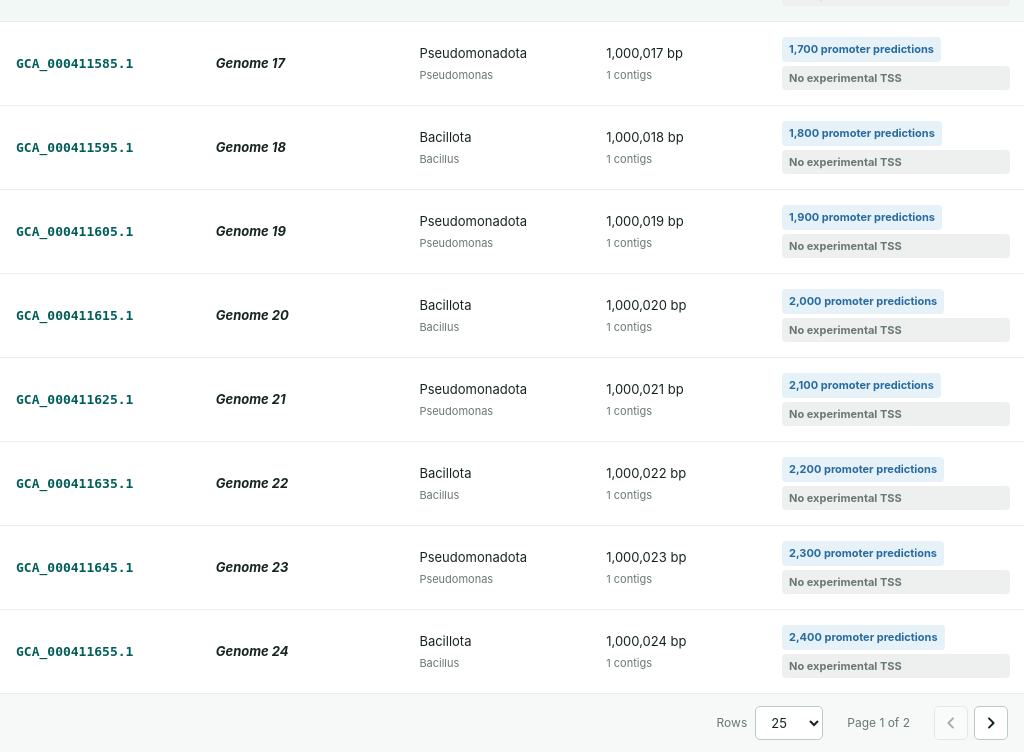
Test: portal genome explorer › returns to the first page when page size changes
(page scrolled)
Click the button named "Next page" at (991, 723), box [974, 706, 1008, 740]
(page scrolled)
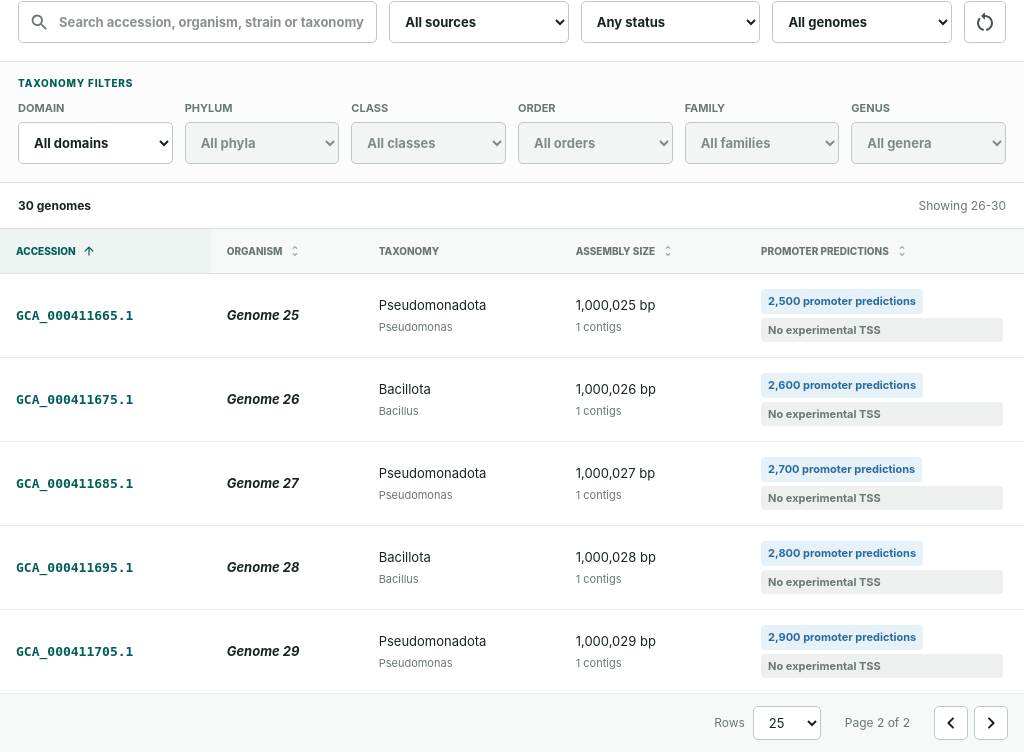
Check: the text "Page 2 of 2" is shown, box [845, 714, 910, 732]
Select "50" in the dropdown labelled "Rows" at (787, 723), box [753, 706, 821, 740]
(page scrolled)
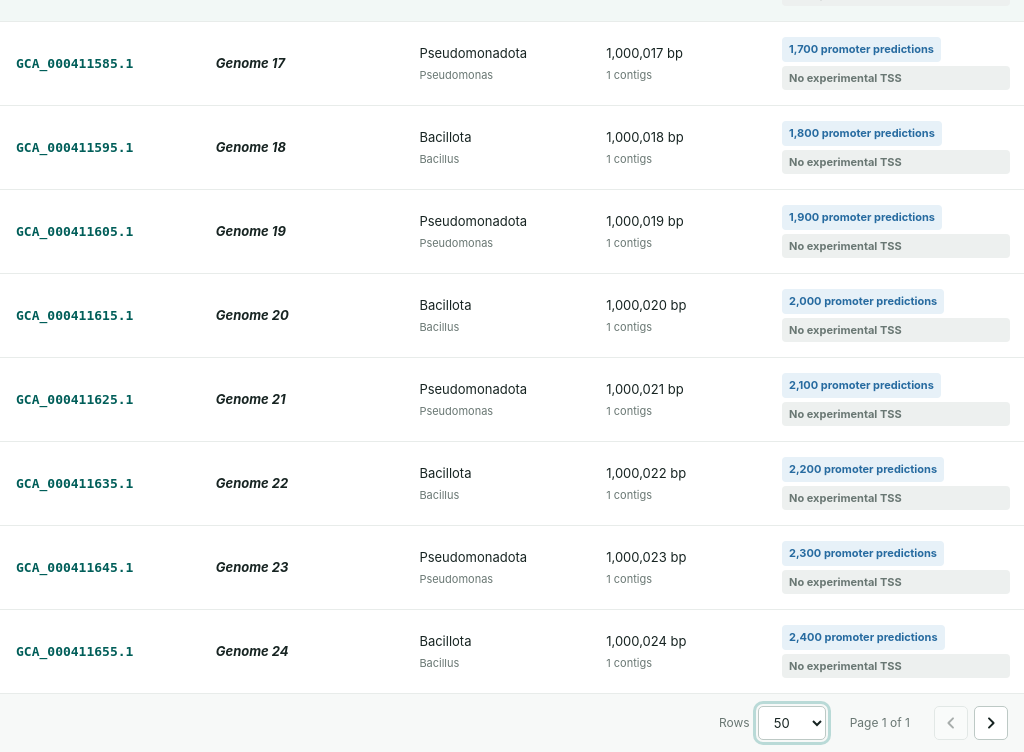
Check: the text "Page 1 of 1" is shown, box [850, 714, 910, 732]
